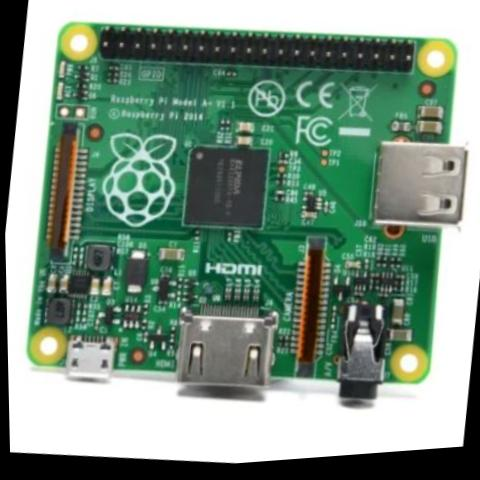Raspberry-Pi-1-Model-A-: (0, 0, 480, 457)
